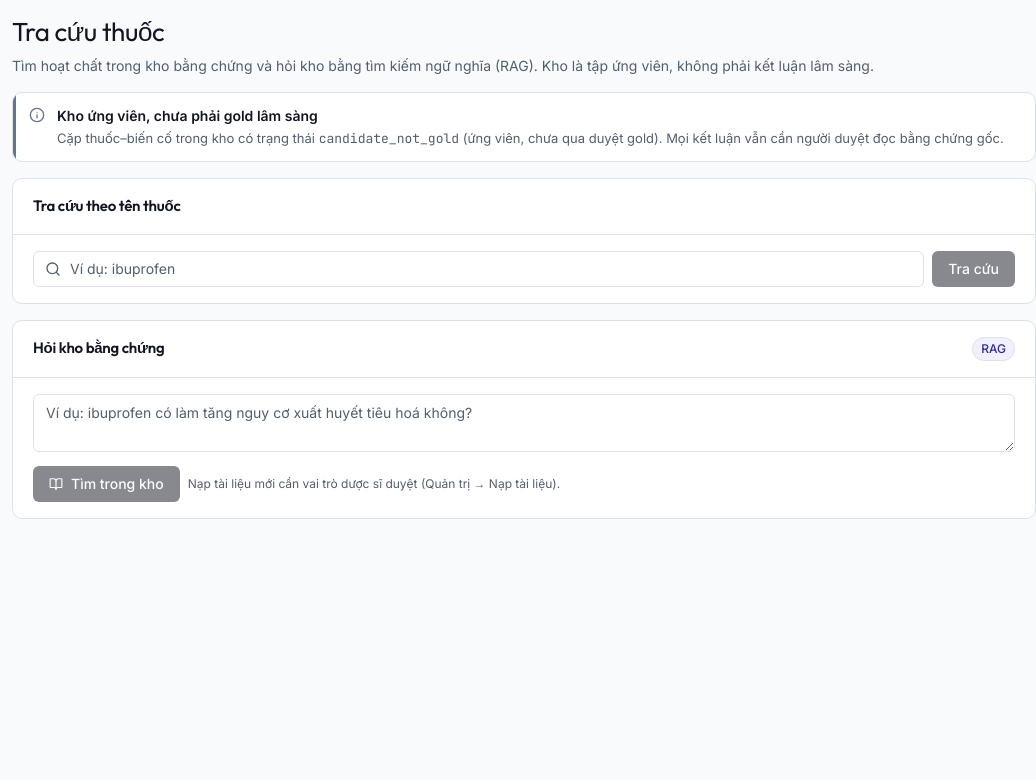
Test case: /app/drugs — tra cứu thuốc › kho chưa sẵn sàng (503) thì hiện cảnh báo khởi động kho
In the field named "Tên thuốc cần tra cứu": coordinates (479, 269) [33, 251, 924, 287], type "ibuprofen"
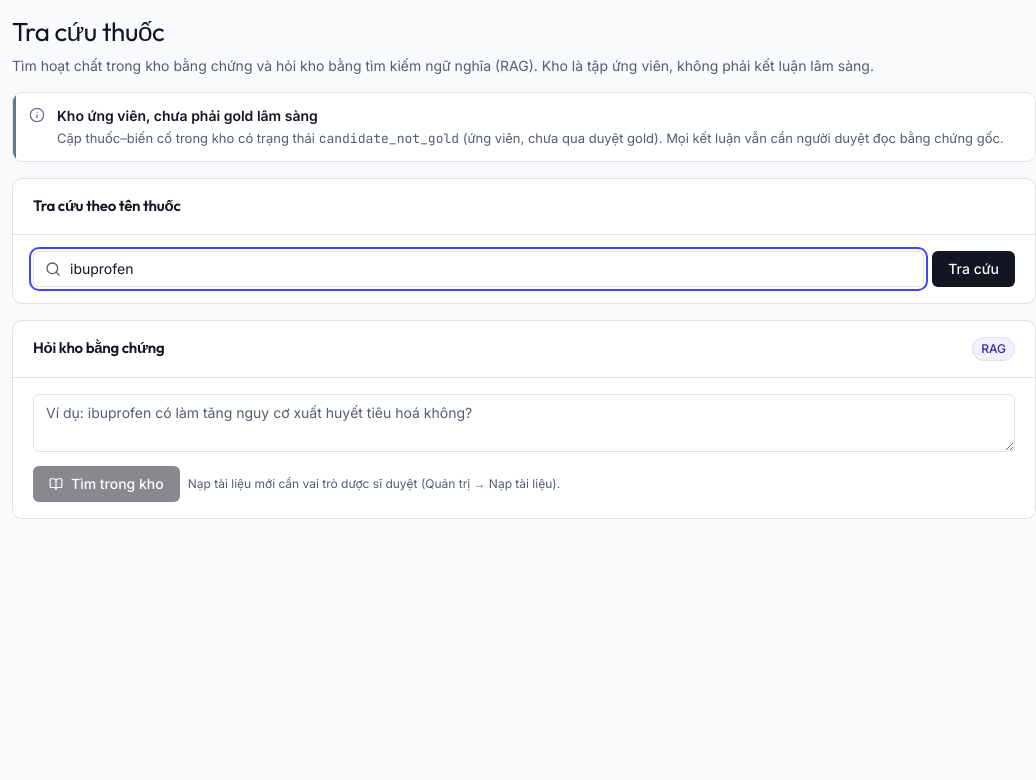
Click the button "Tra cứu": coordinates (974, 269) [932, 251, 1015, 287]
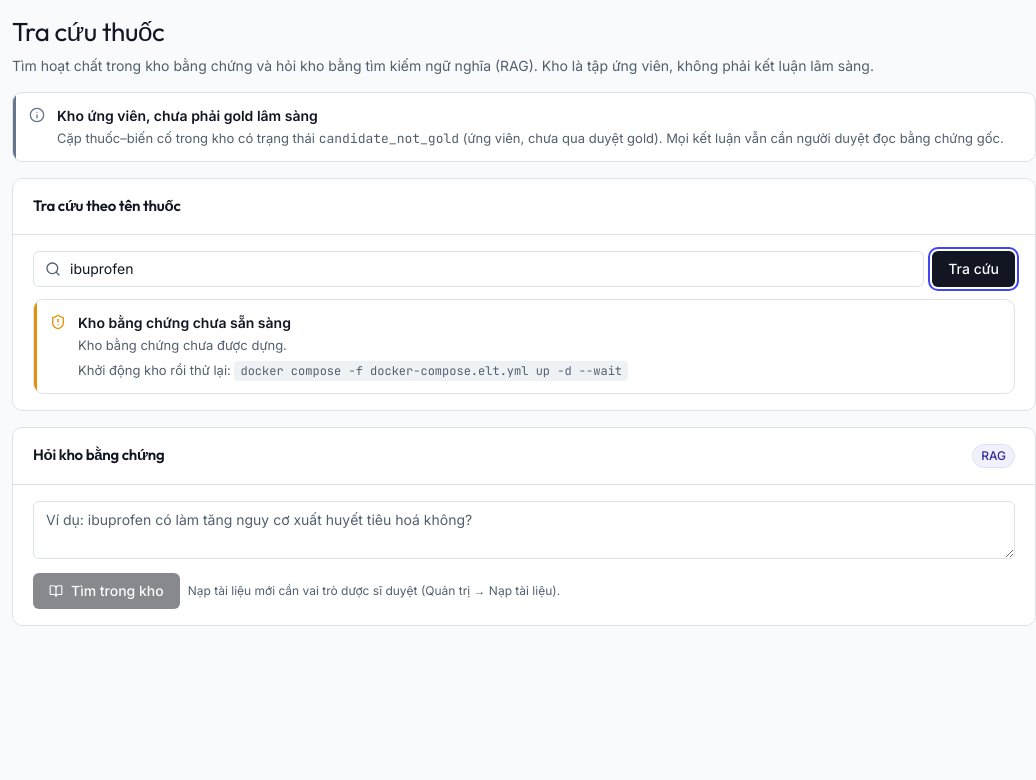
Now the text "Kho bằng chứng chưa sẵn sàng" is shown, box [78, 314, 291, 331]
Now the text "docker compose -f docker-compose.elt.yml up -d --wait" is shown, box [234, 361, 628, 381]
